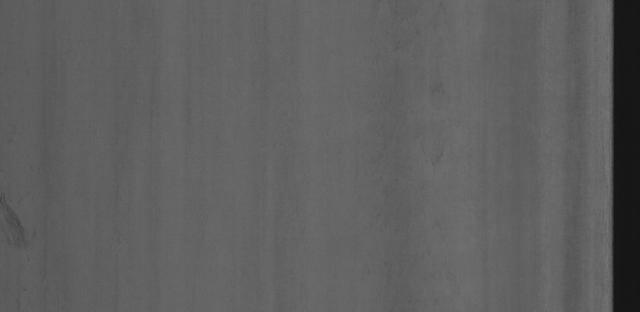water_spot: (1, 185, 44, 262)
